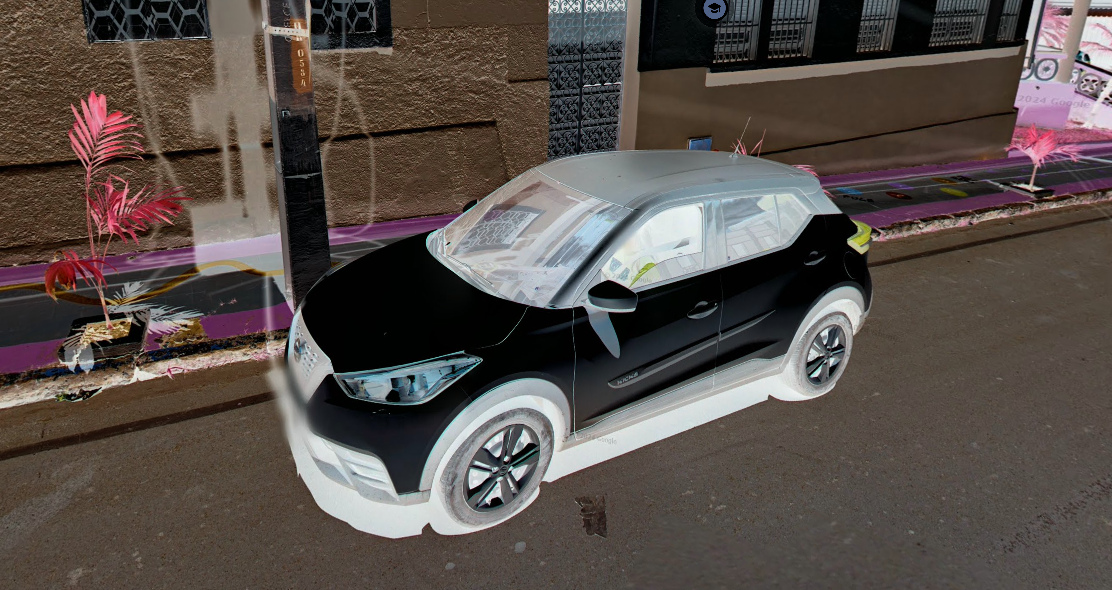car: (272, 113, 881, 538)
